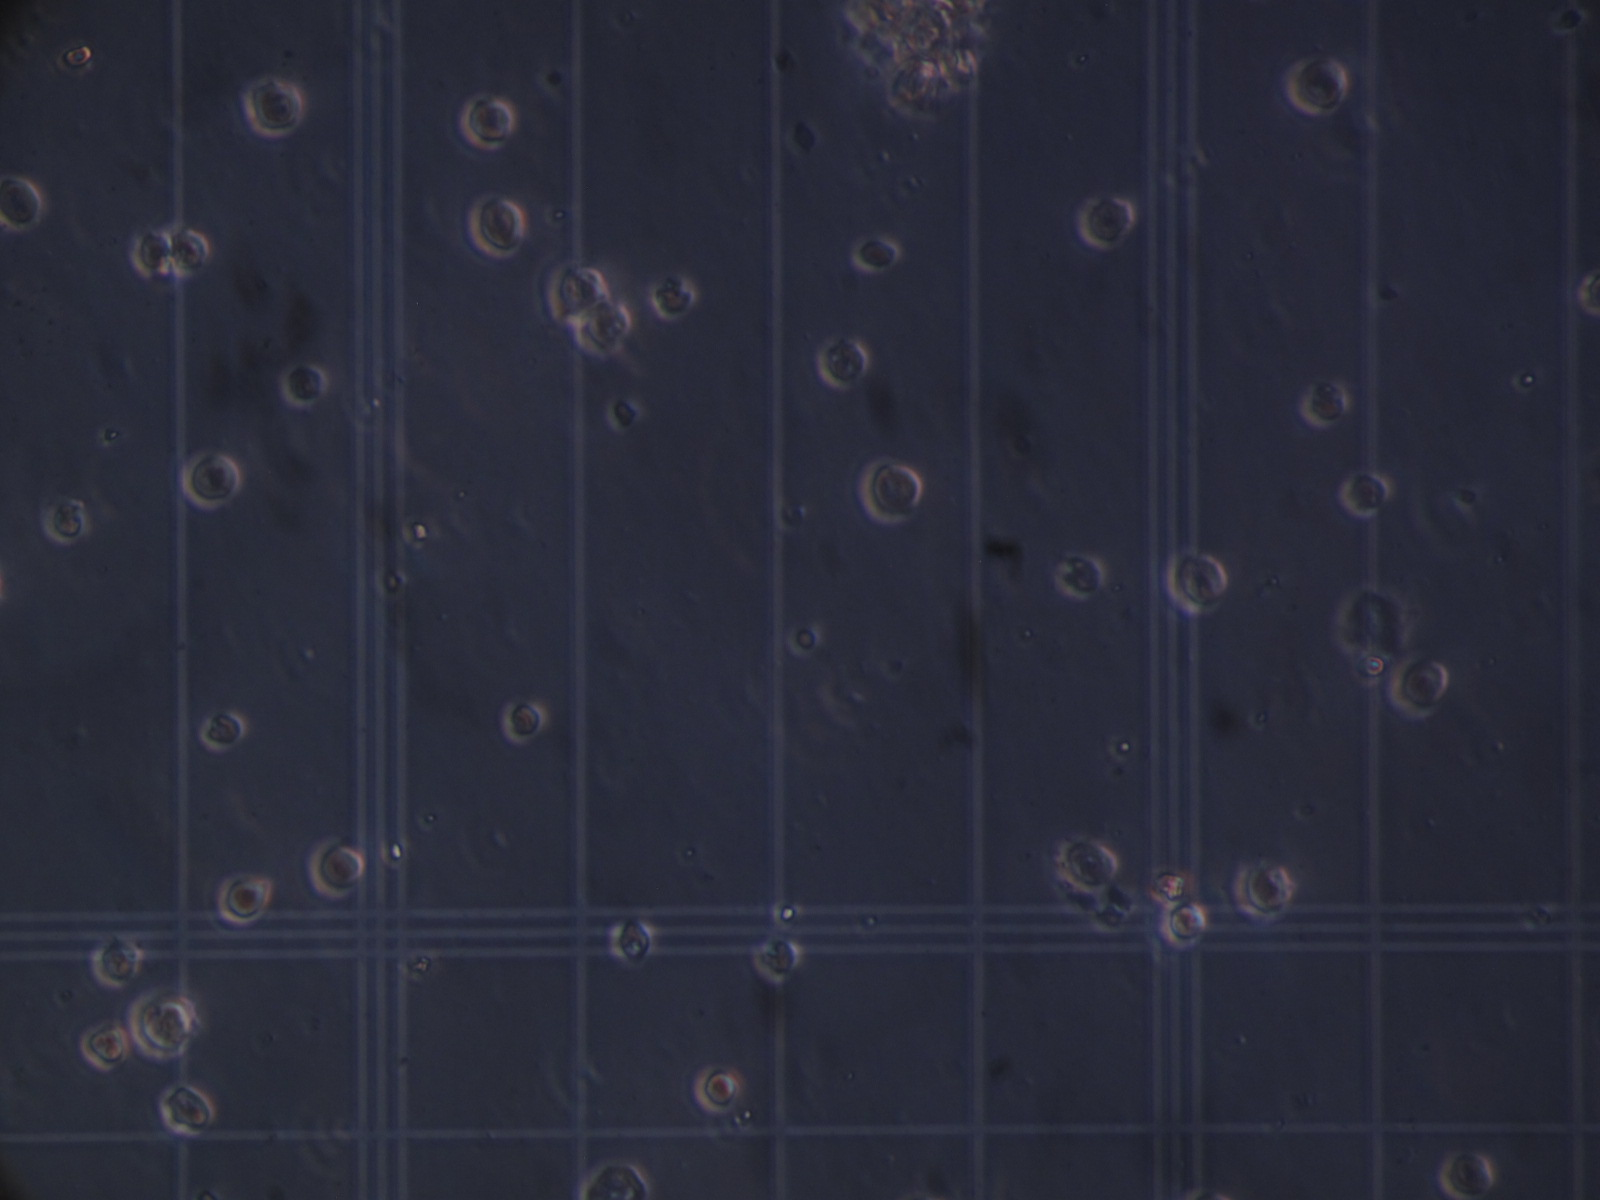hemo: (129, 986, 195, 1058), (860, 455, 925, 524), (1165, 547, 1228, 615), (1285, 52, 1348, 117), (241, 77, 307, 137), (1390, 655, 1449, 721), (181, 449, 243, 511), (549, 263, 611, 324), (470, 193, 525, 258), (1232, 861, 1293, 920), (309, 836, 365, 899), (1056, 837, 1120, 892), (1076, 194, 1135, 253), (816, 330, 871, 395), (574, 300, 632, 357), (578, 1158, 655, 1200), (459, 96, 514, 149), (215, 871, 271, 921), (1056, 550, 1107, 603), (163, 1085, 217, 1136), (93, 935, 141, 988), (1440, 1153, 1495, 1199), (693, 1066, 745, 1114), (1340, 471, 1392, 519), (752, 935, 801, 984), (79, 1020, 127, 1070), (1, 175, 44, 231), (650, 274, 699, 321), (280, 361, 330, 407), (607, 916, 655, 964), (1303, 379, 1348, 429), (501, 698, 547, 746), (47, 495, 89, 545), (132, 226, 173, 277), (1162, 903, 1206, 948), (854, 234, 903, 275), (173, 227, 210, 279), (199, 710, 247, 750), (1150, 863, 1188, 911), (1579, 271, 1600, 313)
